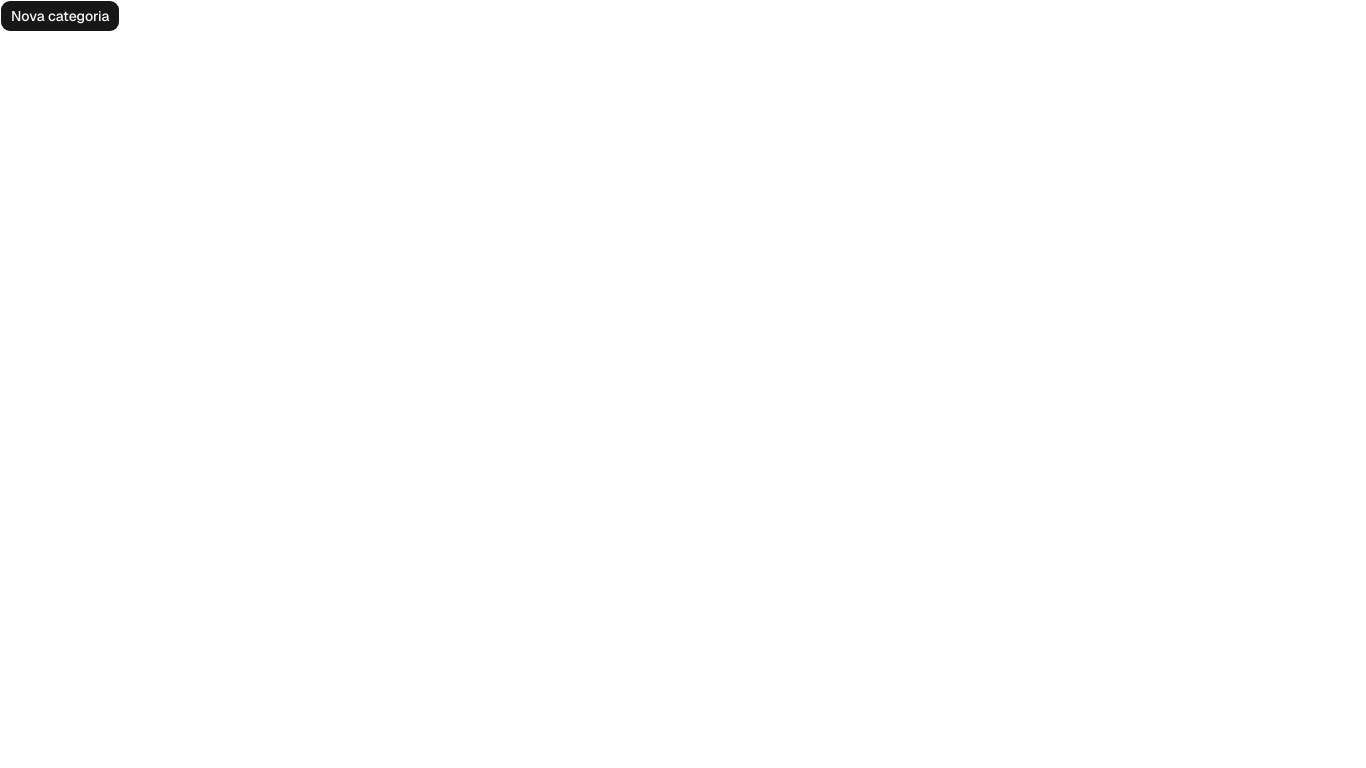
Test case: CreateCategoryDialog › shows the form error in an alert and keeps the dialog open
This screenshot has width=1366, height=768.
Click the button "Nova categoria" at (60, 16), box [0,0,120,32]
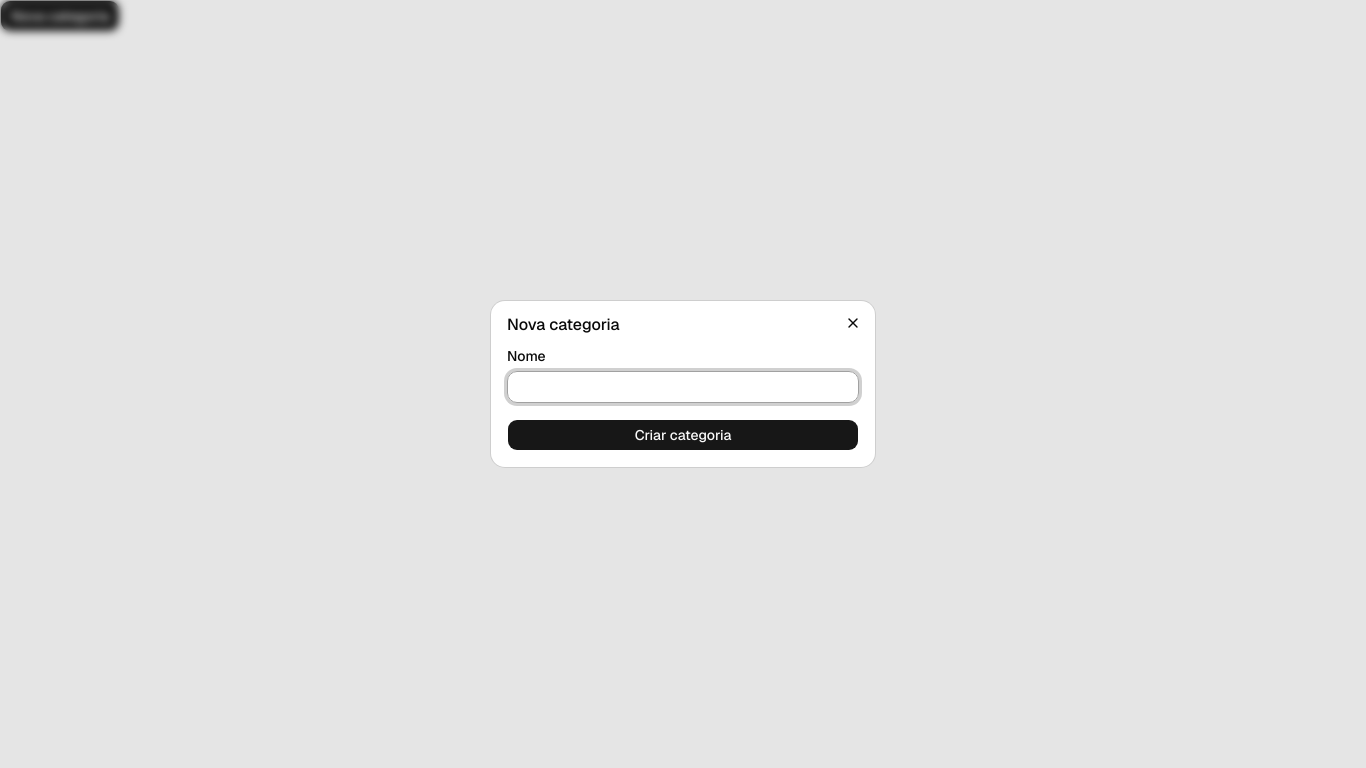
Type "Bebidas" into the field labelled "Nome" at (683, 387), box [507,371,859,403]
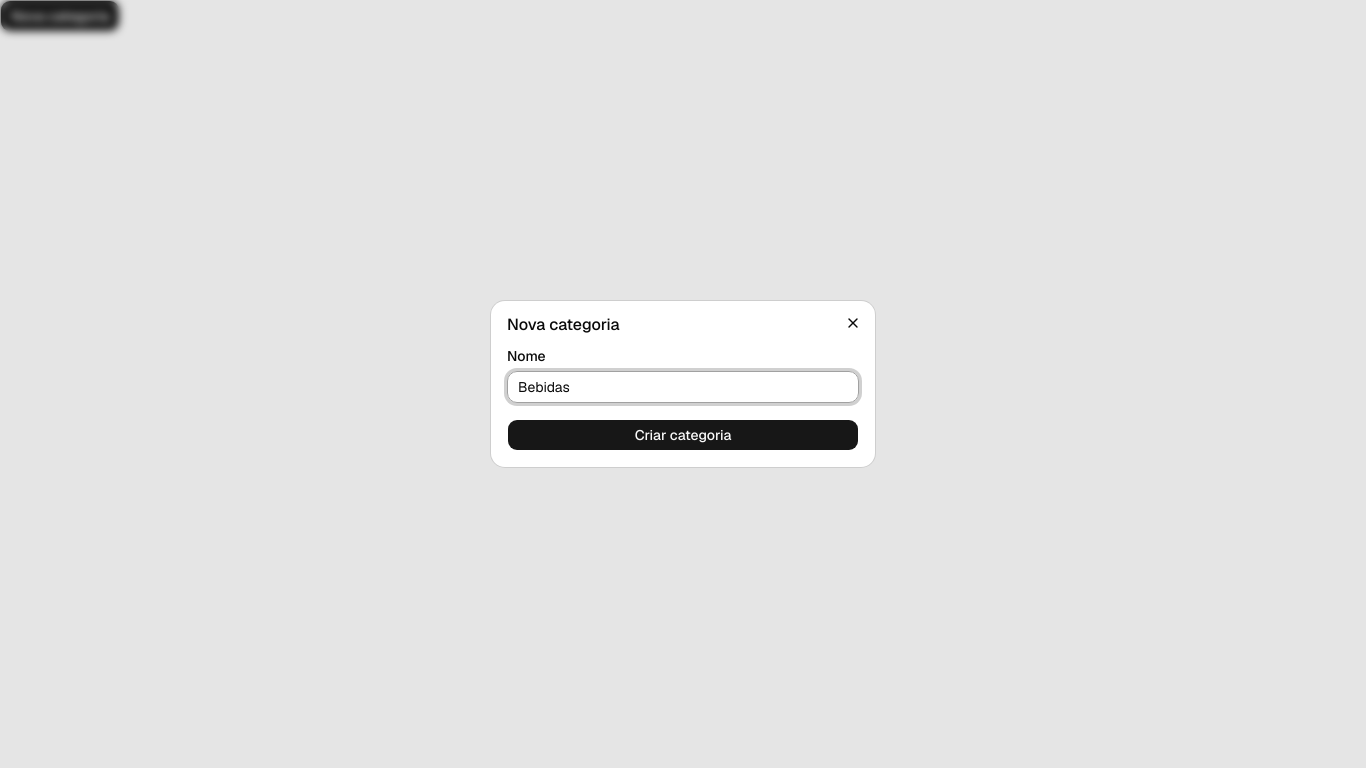
Click the button "Criar categoria" at (683, 435), box [507,419,859,451]
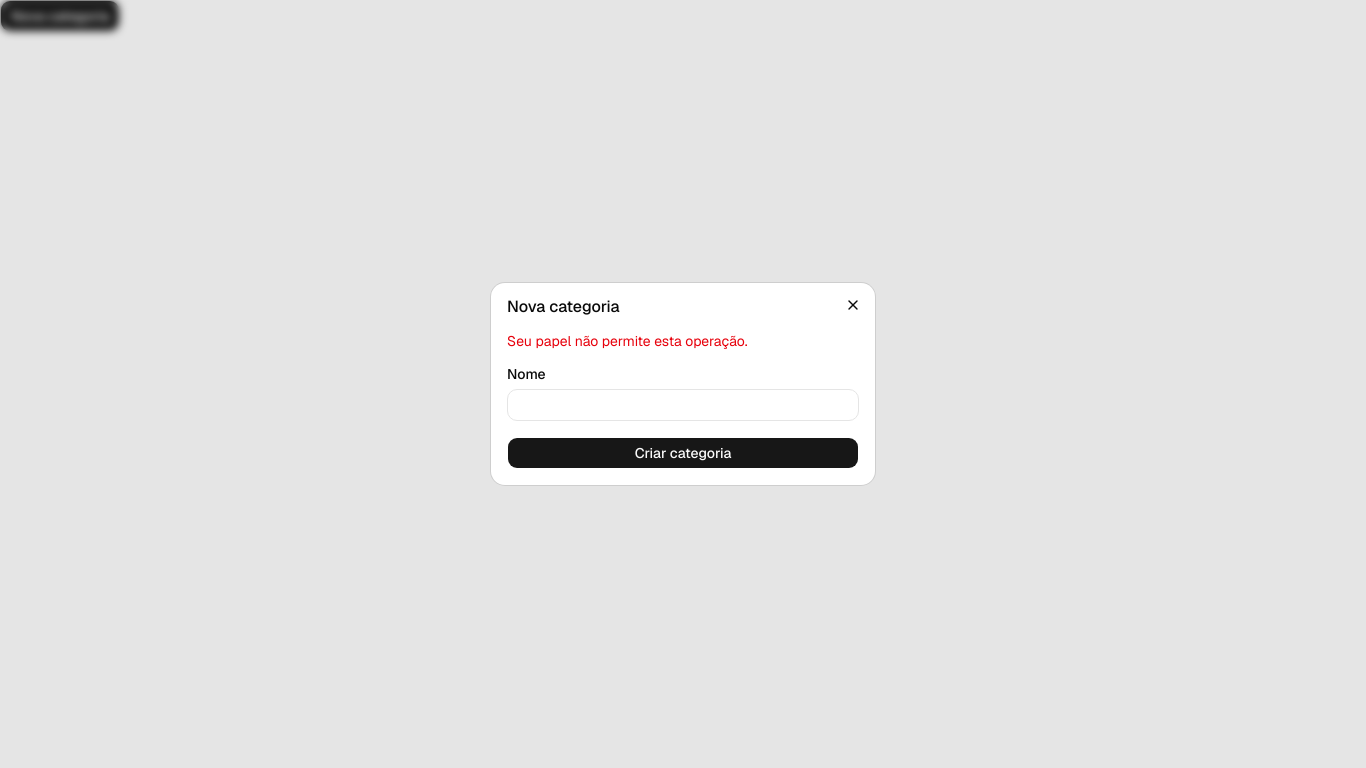
Check: the dialog is shown, box [491,283,875,485]
Check: the message reads "Seu papel não permite esta operação.", box [507,332,748,350]
